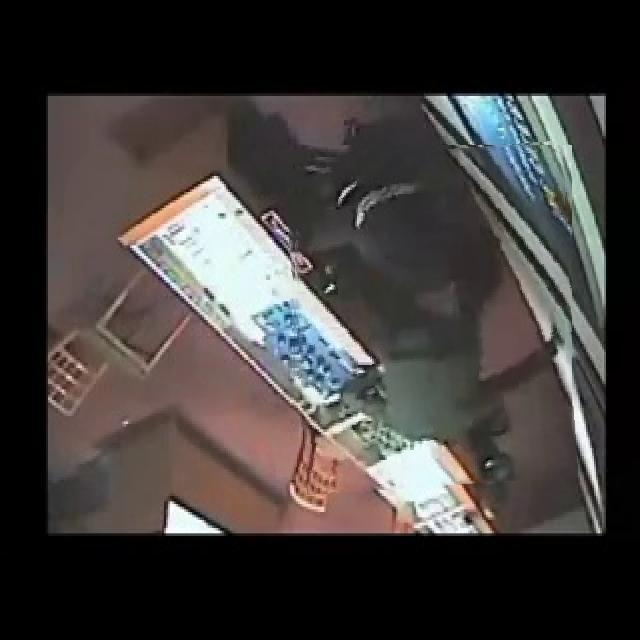Shoplifting: (290, 145, 572, 490)
